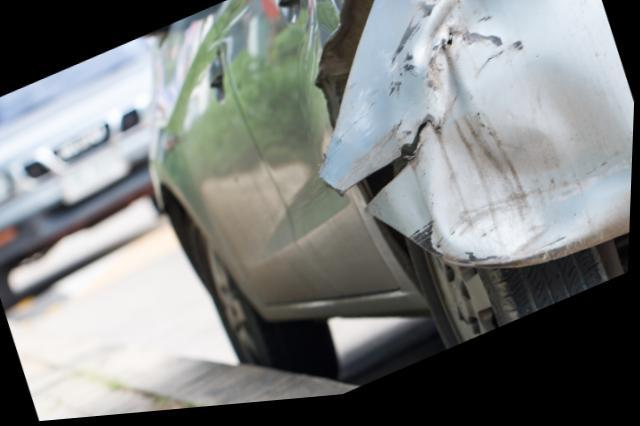crack: (343, 126, 430, 217)
dent: (420, 0, 634, 272)
dislocated part: (317, 0, 635, 284)
